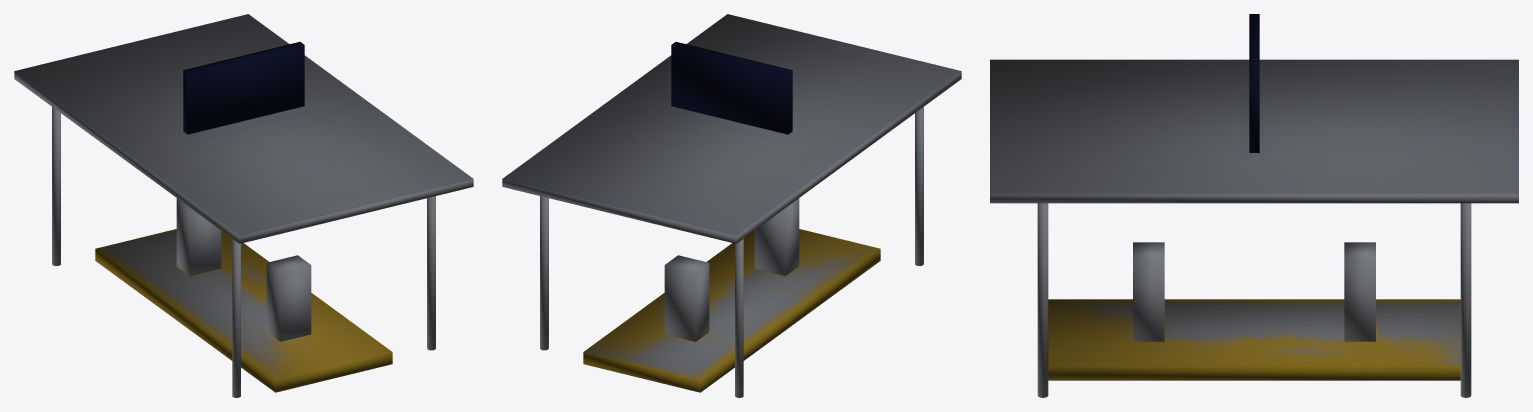
Rendered from yard-fuel-island-body-tripo-original.glb.
The picture shows the model from 3 angles, left to right: view 1: azimuth 30°, elevation 25°; view 2: azimuth 150°, elevation 25°; view 3: azimuth 270°, elevation 25°; orthographic projection. The views are drawn at different scales.
Parts seen in each view (by area): view 1: Authored_surface_041; view 2: Authored_surface_041; view 3: Authored_surface_041.
Part boxes in pixels (<box>): Authored_surface_041: <box>14,14,473,397</box>; Authored_surface_041: <box>502,14,961,397</box>; Authored_surface_041: <box>990,14,1518,397</box>.
Size of the model in its own units: 0.6 by 0.625 by 1.
1 material, 1 textured.
